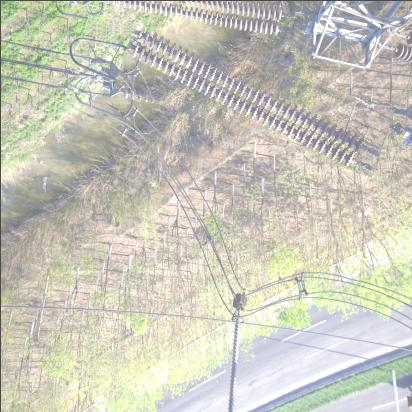insulator: (115, 43, 393, 156), (88, 1, 295, 37)
